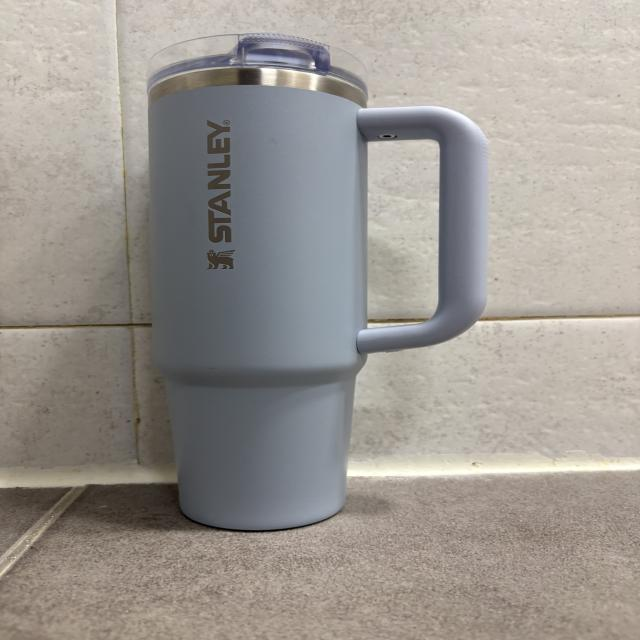waterbottle: (148, 31, 488, 531)
